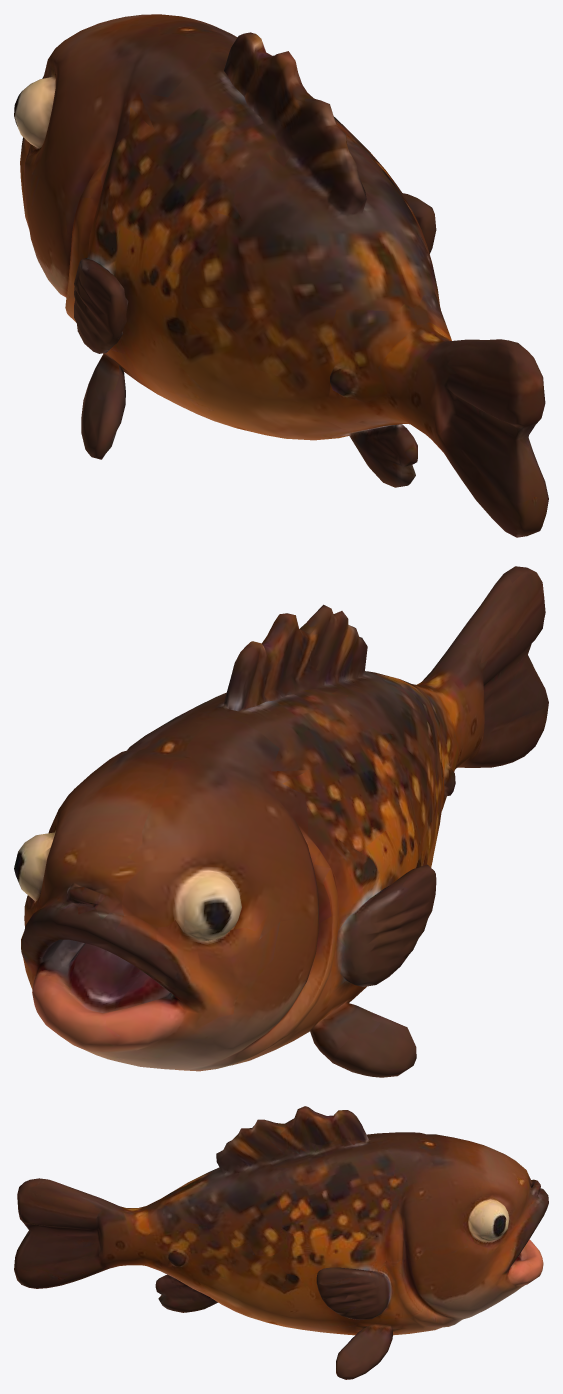
File: dongsari.glb
3 renders of one model, top to bottom at view 1: azimuth 30°, elevation 25°; view 2: azimuth 150°, elevation 25°; view 3: azimuth 270°, elevation 25°, orthographic. The views are drawn at different scales.
Visible parts, largest first — view 1: tripo_node_ae0b7502-5901-44da-98f2-36a6513f5698; view 2: tripo_node_ae0b7502-5901-44da-98f2-36a6513f5698; view 3: tripo_node_ae0b7502-5901-44da-98f2-36a6513f5698.
Part boxes in pixels (<box>): tripo_node_ae0b7502-5901-44da-98f2-36a6513f5698: <box>14,14,548,537</box>; tripo_node_ae0b7502-5901-44da-98f2-36a6513f5698: <box>14,566,548,1077</box>; tripo_node_ae0b7502-5901-44da-98f2-36a6513f5698: <box>14,1106,548,1379</box>.
Size of the model in its own units: 0.4116 by 0.4734 by 1.
Materials: 1 (1 with a texture image).
